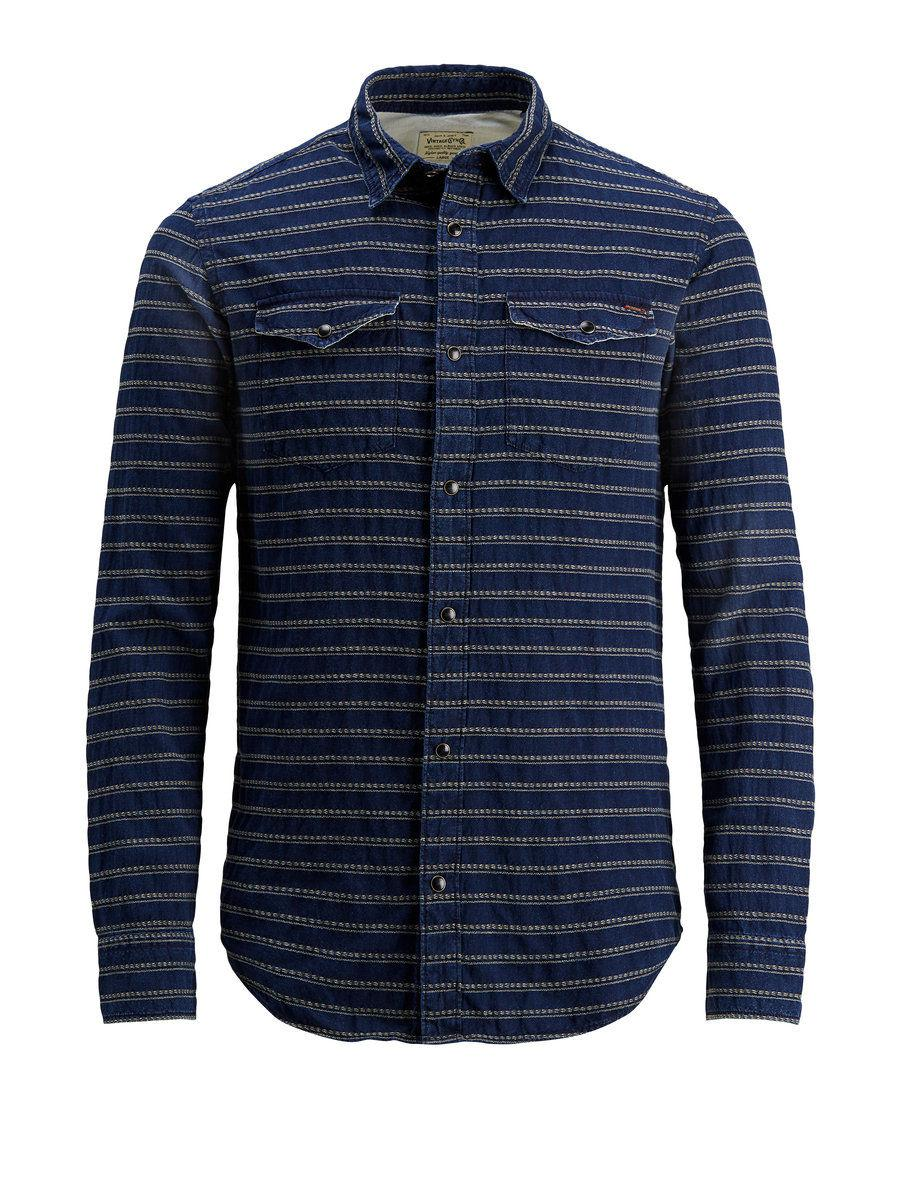teeshirt: (58, 62, 805, 1062)
